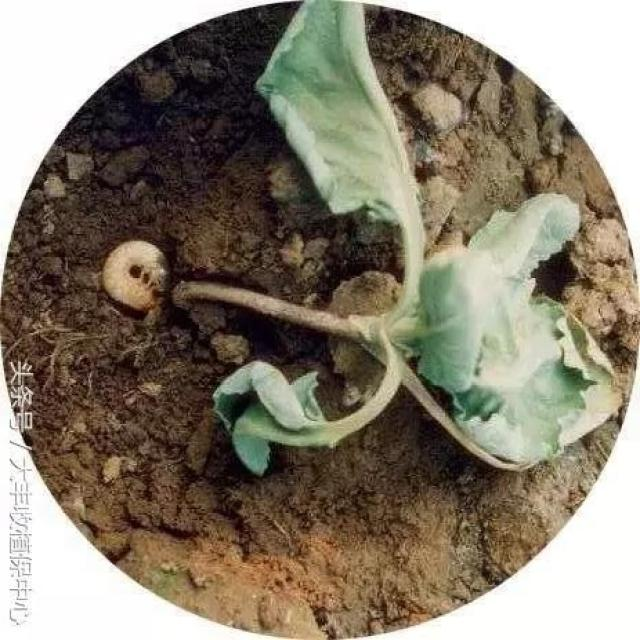grub: (96, 238, 186, 323)
